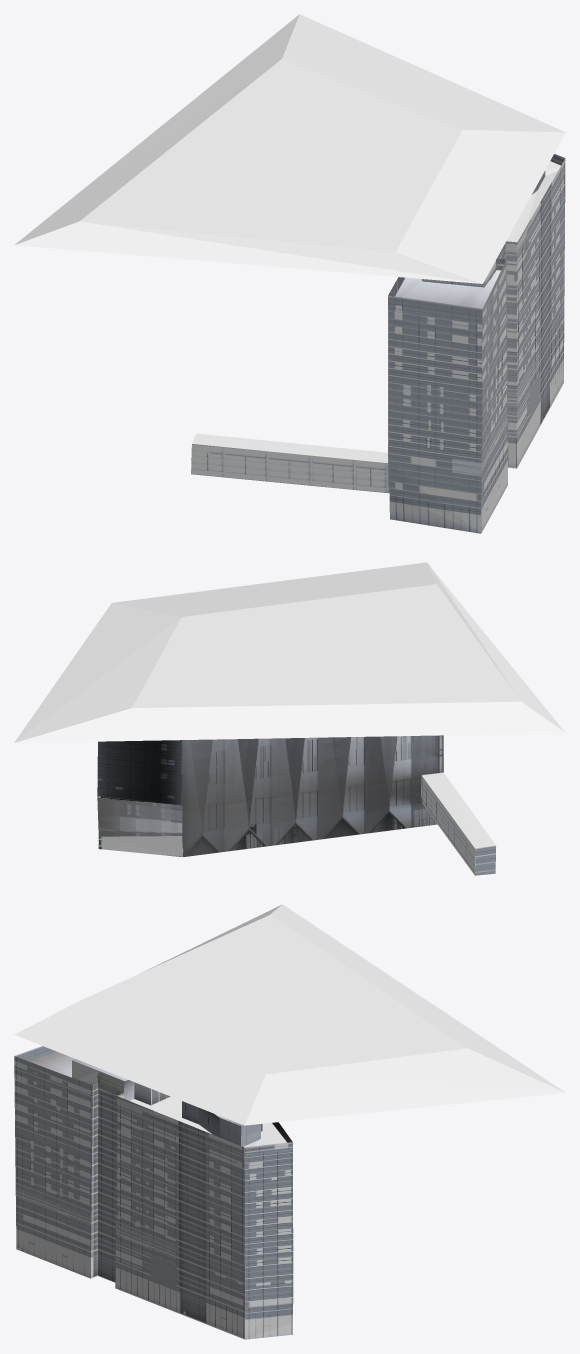
Rendered from Kafd_Base_Location207towerA.glb.
3 views of the same model, one above another, from view 1: azimuth 30°, elevation 25°; view 2: azimuth 150°, elevation 25°; view 3: azimuth 270°, elevation 25° (orthographic). The views are drawn at different scales.
Visible parts, largest first — view 1: 2.07-A.001; view 2: 2.07-A.001; view 3: 2.07-A.001.
Boxes of the visible parts, bbox=[...] form: 2.07-A.001: bbox=[14, 14, 565, 533]; 2.07-A.001: bbox=[14, 562, 565, 875]; 2.07-A.001: bbox=[14, 904, 565, 1339].
Size of the model in its own units: 115 by 55.48 by 122.
1 material, 1 textured.
